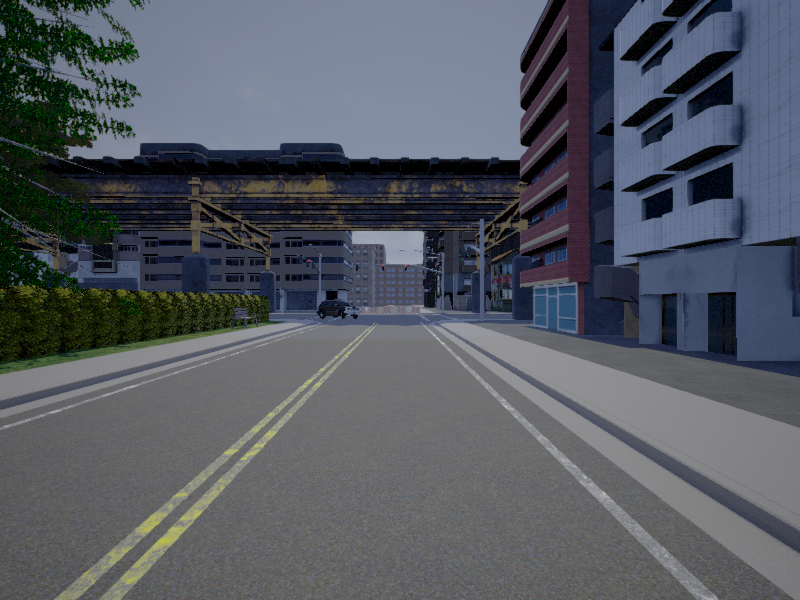Benign: (316, 300, 360, 321)
